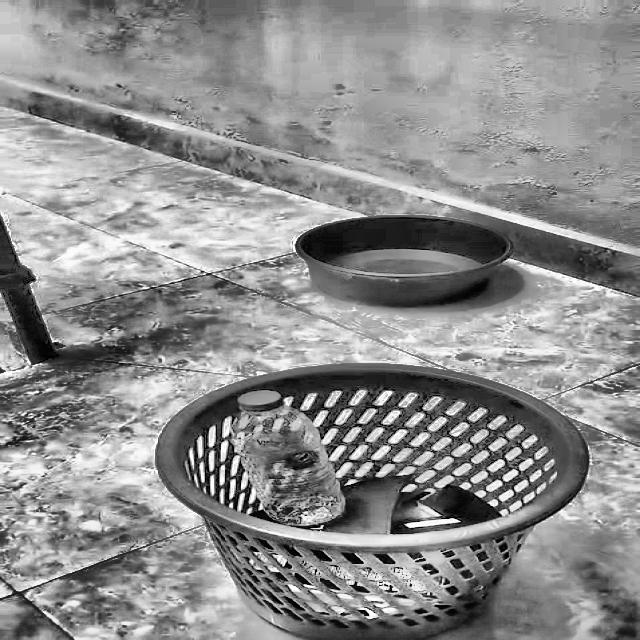Bottle-Disposed: (195, 374, 592, 549)
Plastic-Bottle: (221, 388, 346, 519)
